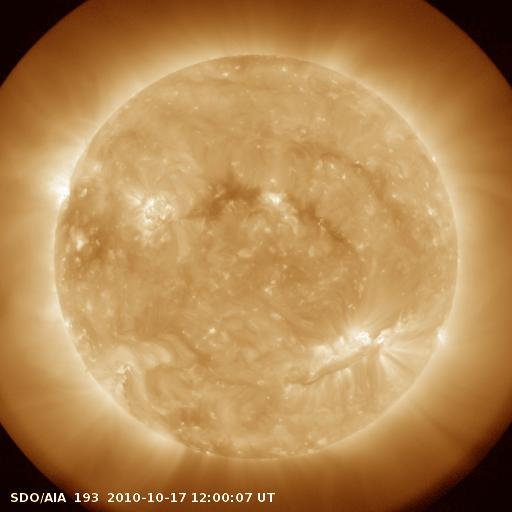coronal_hole: (52, 190, 115, 275), (187, 177, 261, 217)
